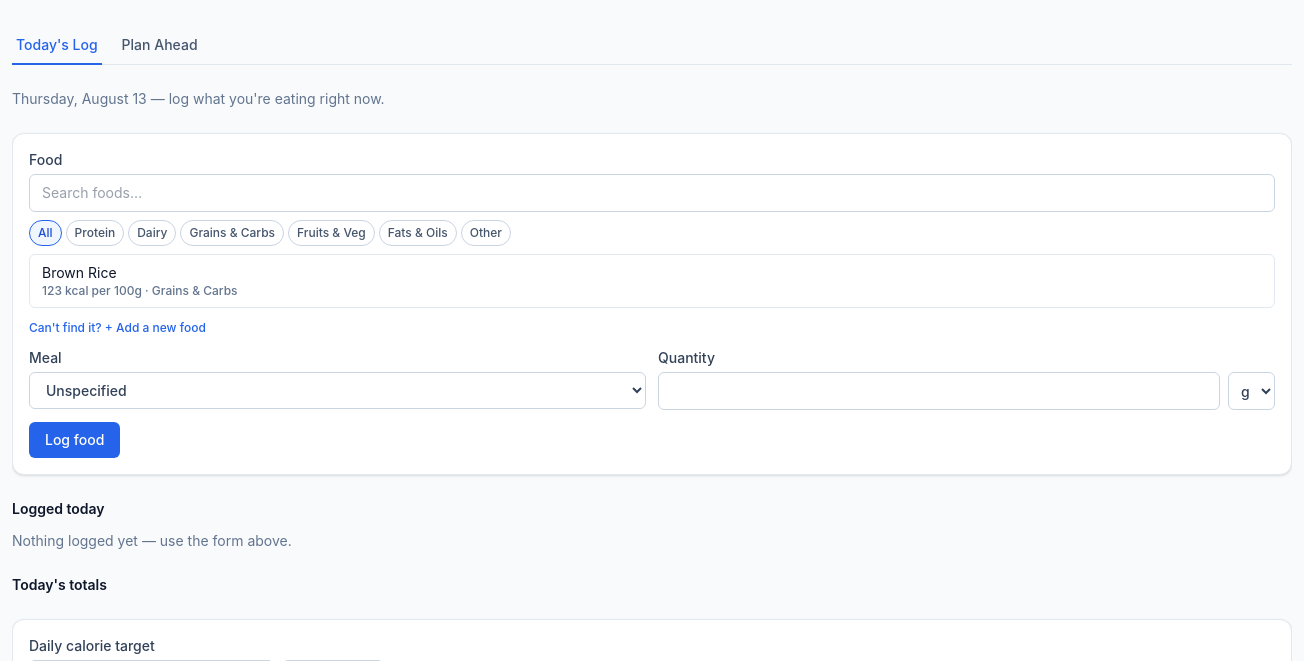
Test: MealPlannerView › allows fractional quantities so non-gram units like tbsp or cup can be logged
Click the button "Plan Ahead" at (160, 46), box [118,27,202,65]
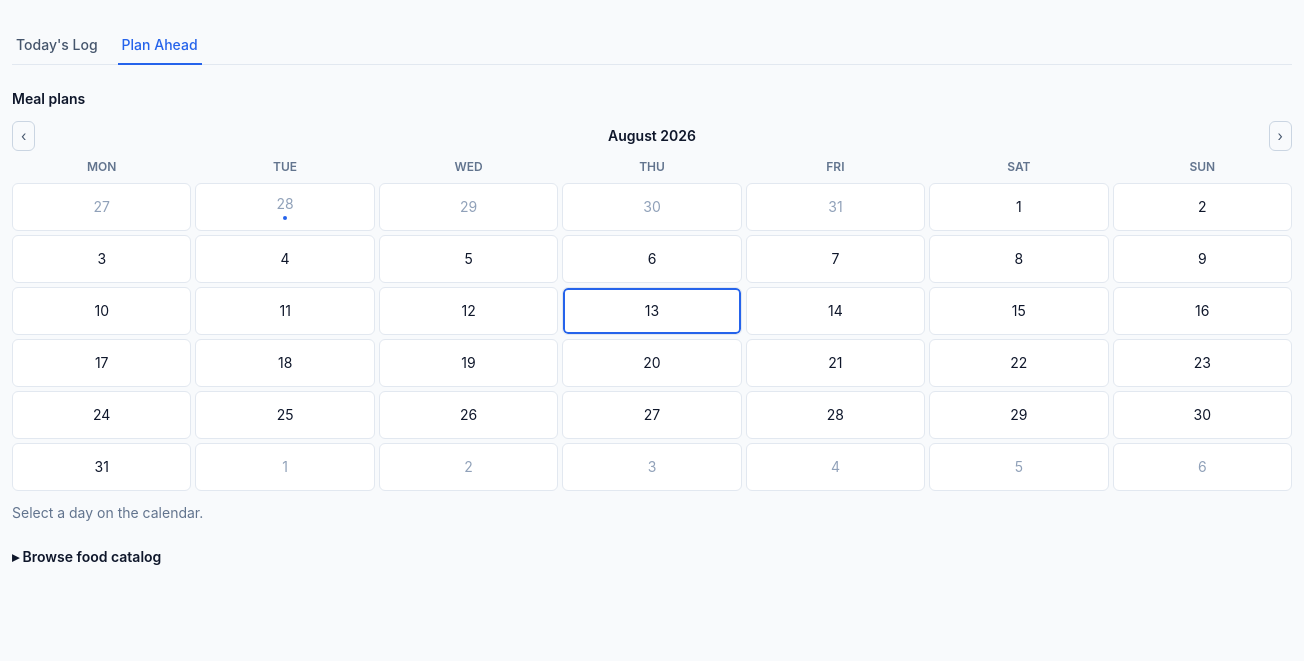
Click the 1st button "28" at (285, 207), box [195,183,375,231]
(page scrolled)
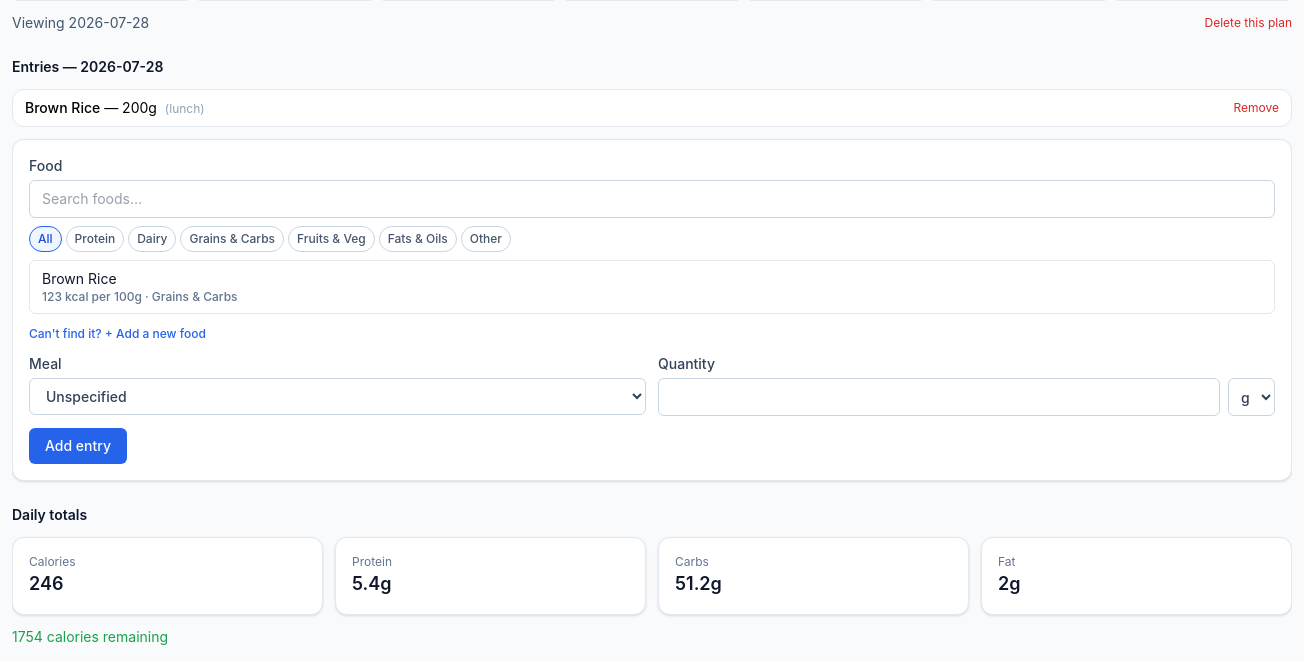
Expected: the number field labelled "Quantity" is shown, [658,378,1220,416]
